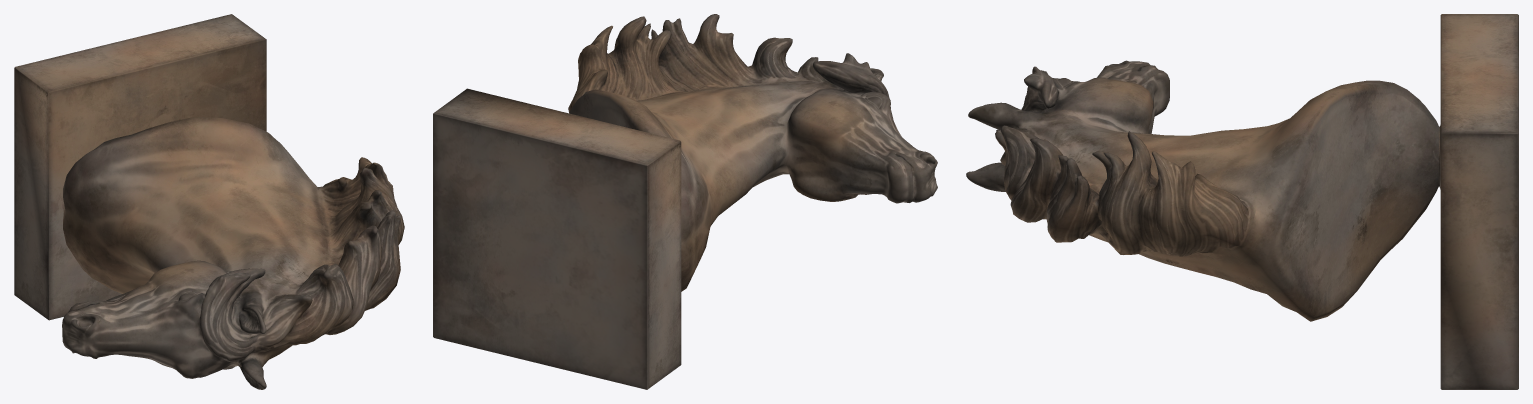
File: horse_head_1k.obj
3 renders of one model, left to right at view 1: azimuth 30°, elevation 25°; view 2: azimuth 150°, elevation 25°; view 3: azimuth 270°, elevation 25°, orthographic. The views are drawn at different scales.
Visible parts, largest first — view 1: horse_head_horse_head; view 2: horse_head_horse_head; view 3: horse_head_horse_head.
Part boxes in pixels (box(x1,y1,x2,y2)): horse_head_horse_head: box(14, 14, 404, 389); horse_head_horse_head: box(433, 14, 937, 389); horse_head_horse_head: box(966, 14, 1518, 389).
Size of the model in its own units: 0.3341 by 0.2149 by 0.4187.
1 material, 1 textured.
